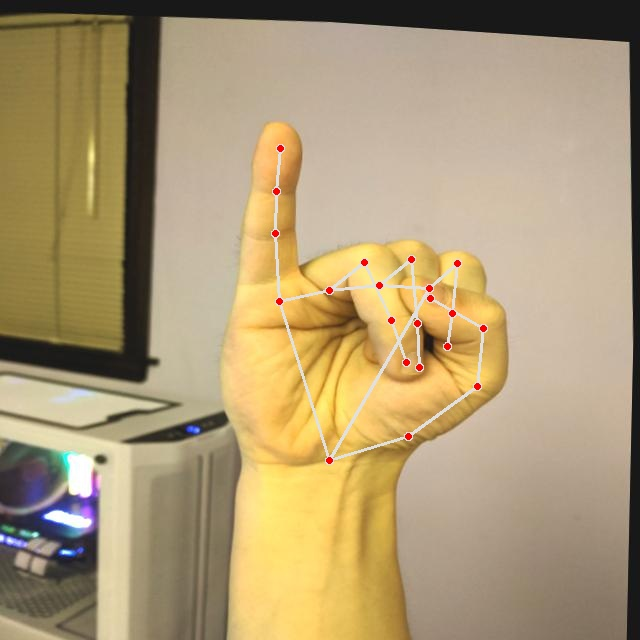I: (197, 96, 526, 490)
